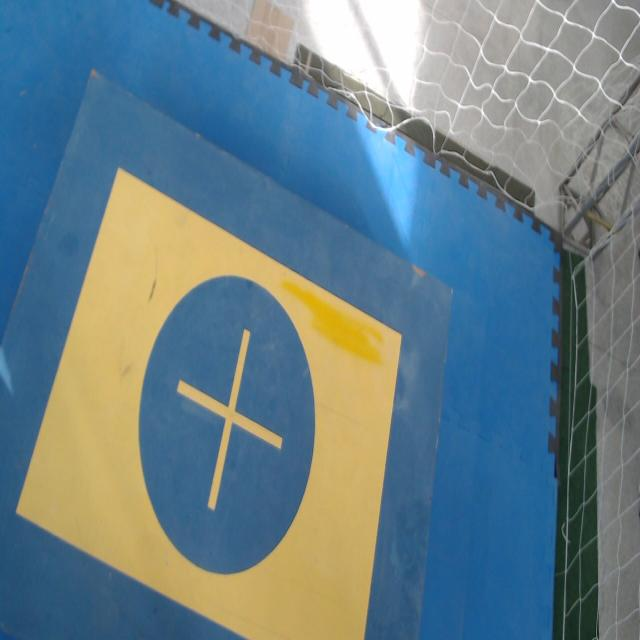base_inicio: (12, 168, 403, 639)
